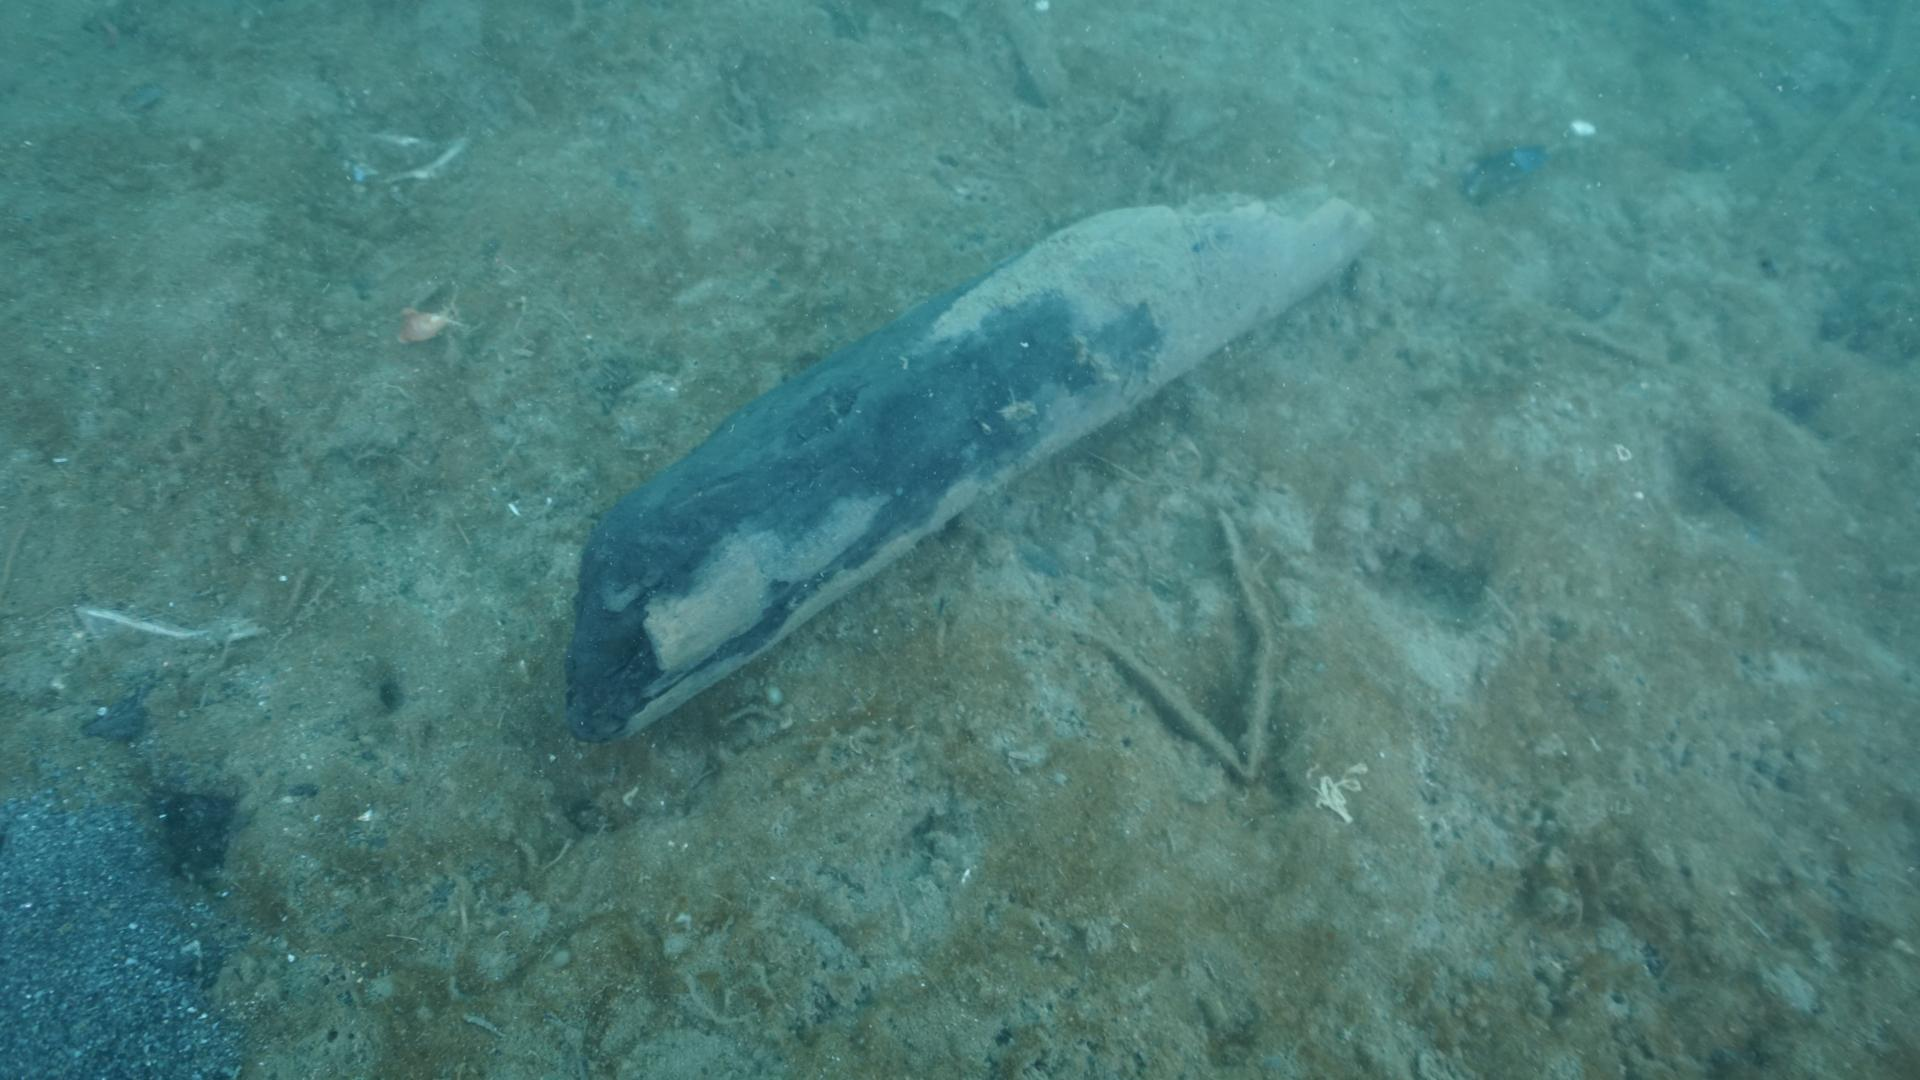wood: (550, 178, 1375, 753)
